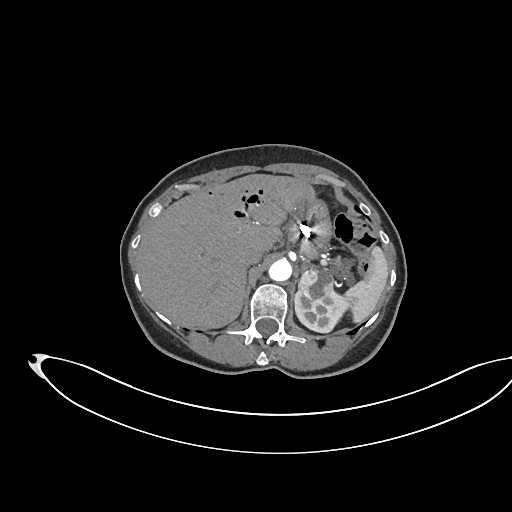Lesion: (299, 267, 336, 306)
